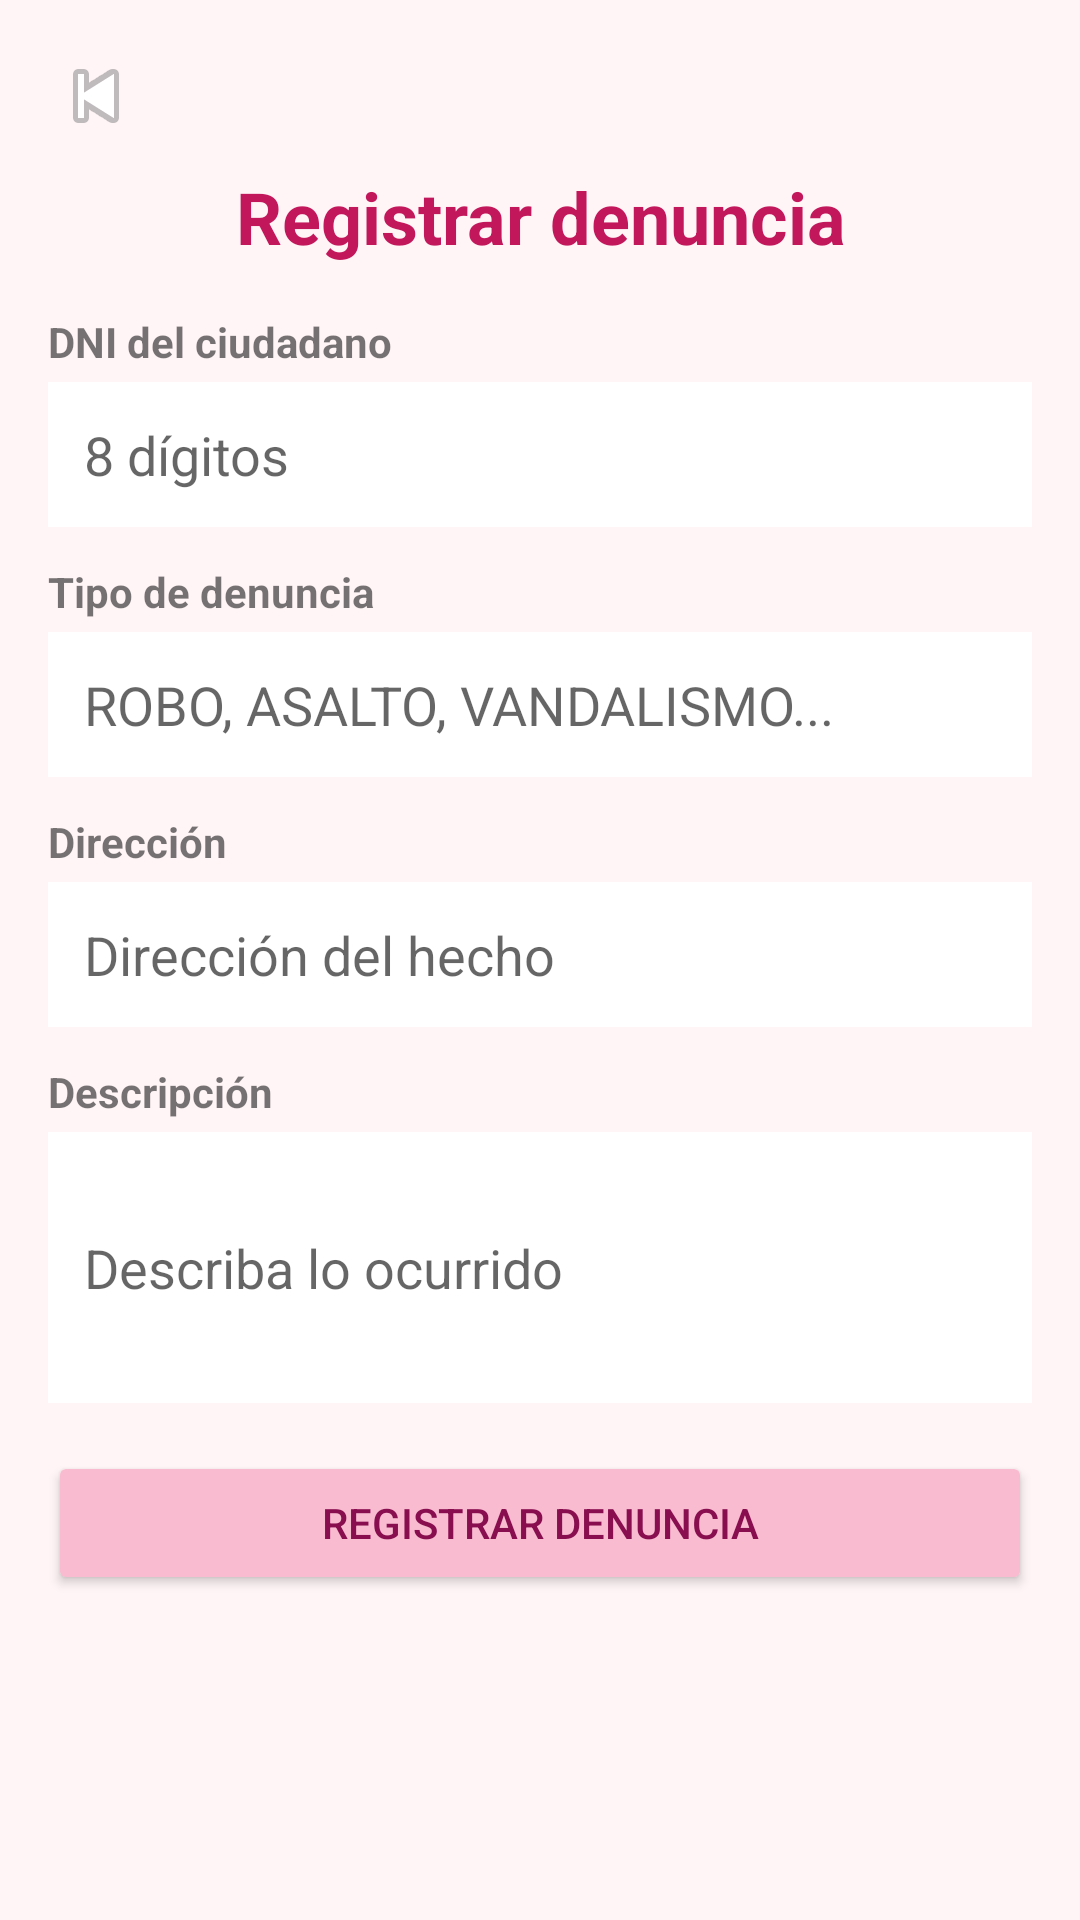

Where to tap for icons on this 1080*1920 app screen, as point (x, y):
Volver: point (96, 96)
